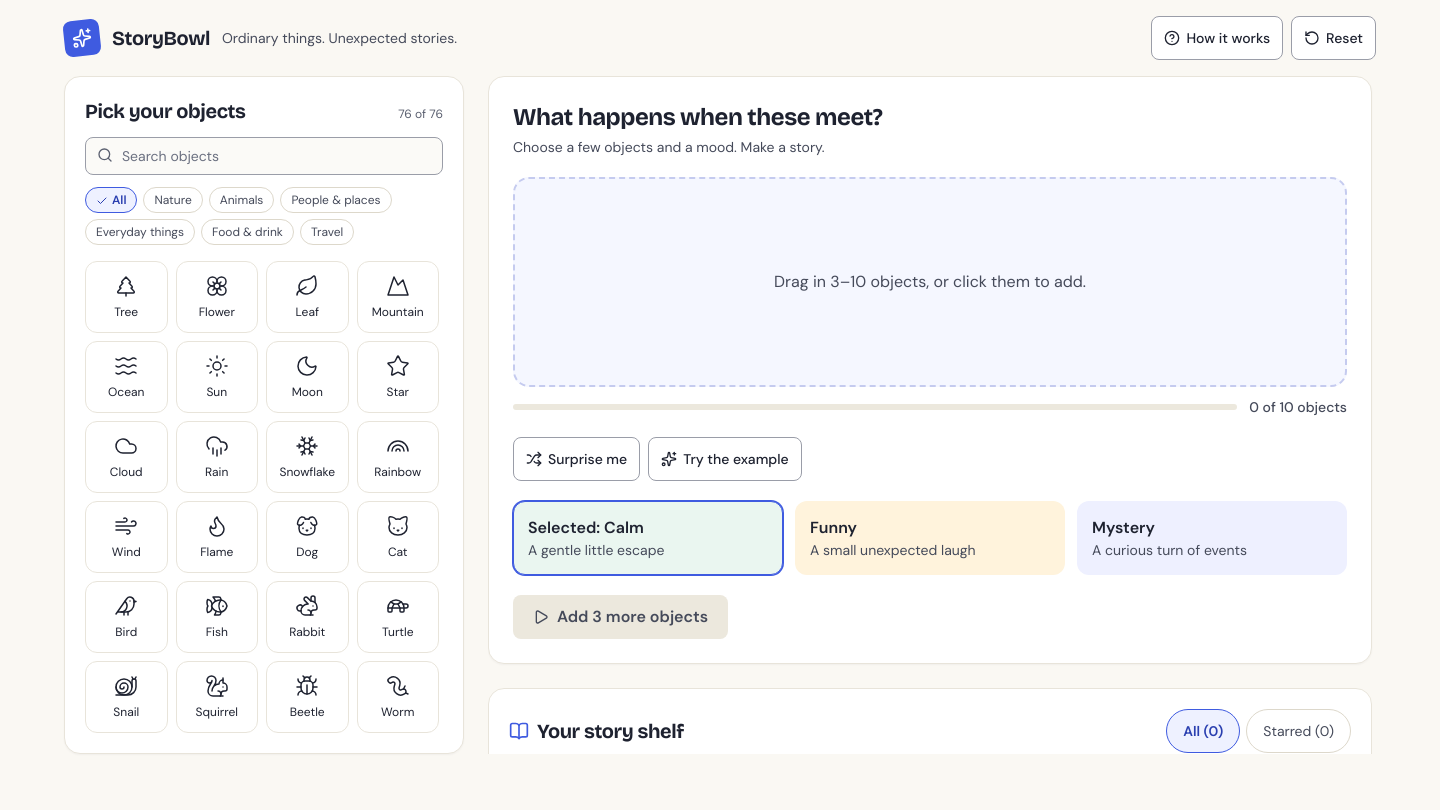
Test case: generation and narration › keeps the result readable when narration is blocked and retries Play without generation
Click the button "Try the example" at (725, 459), box [648,437,802,481]
(page scrolled)
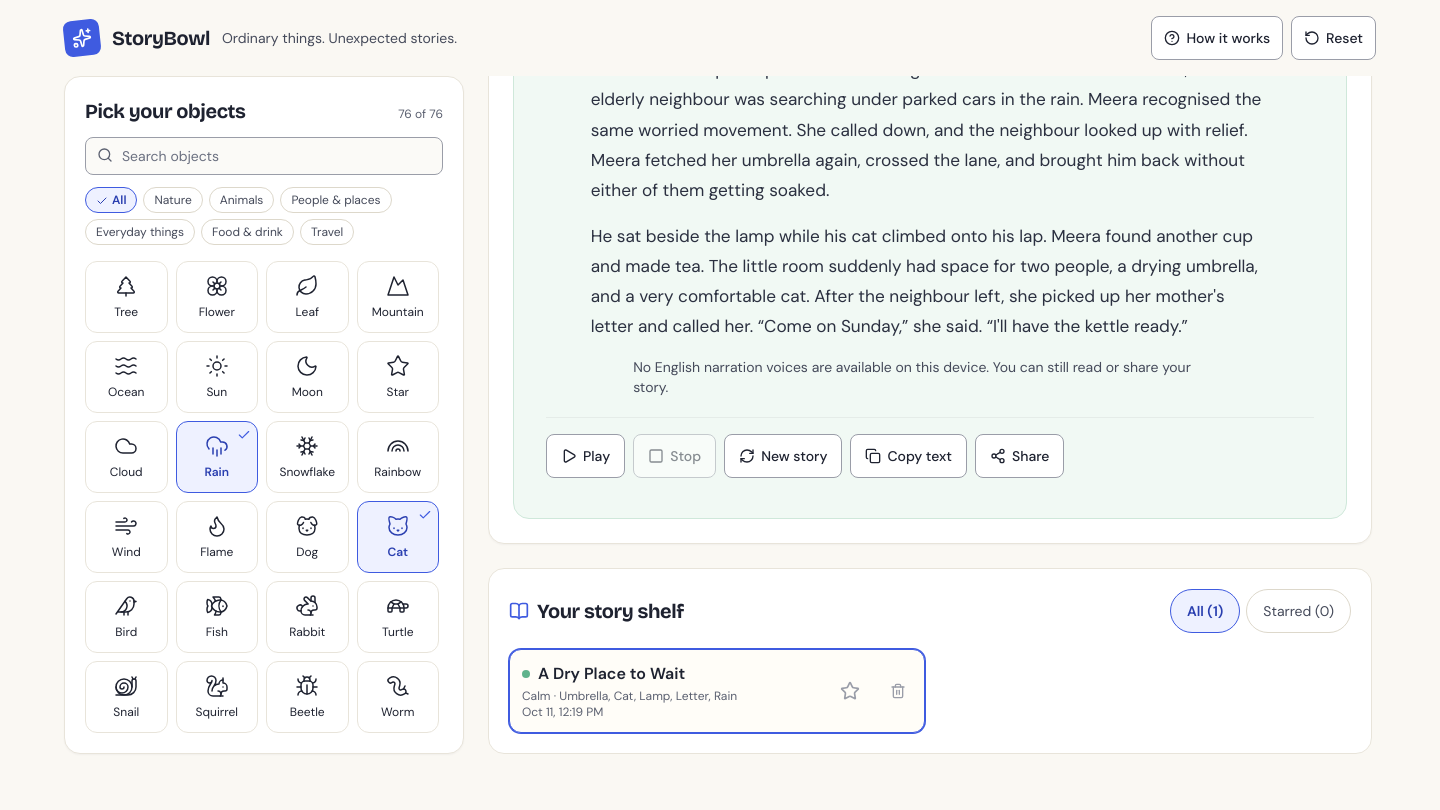
Now the text "No English narration voices are available" is shown, box [633,358,1191,396]
Click the button "Play" at (586, 456), box [546,434,625,478]
(page scrolled)
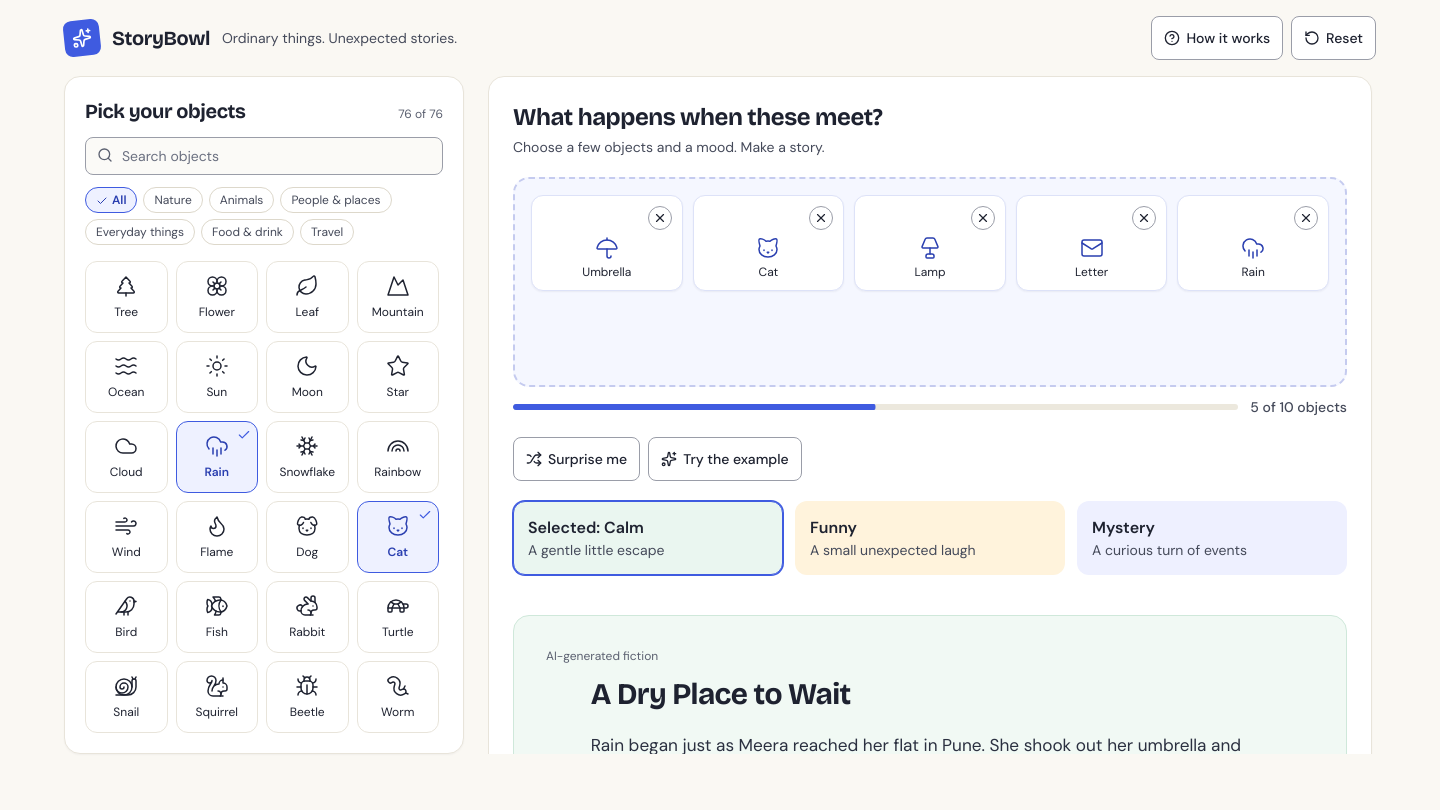
Now the text "No English narration voices are available" is gone
Click the button named "Remove cat" at (821, 218), box [799,196,843,240]
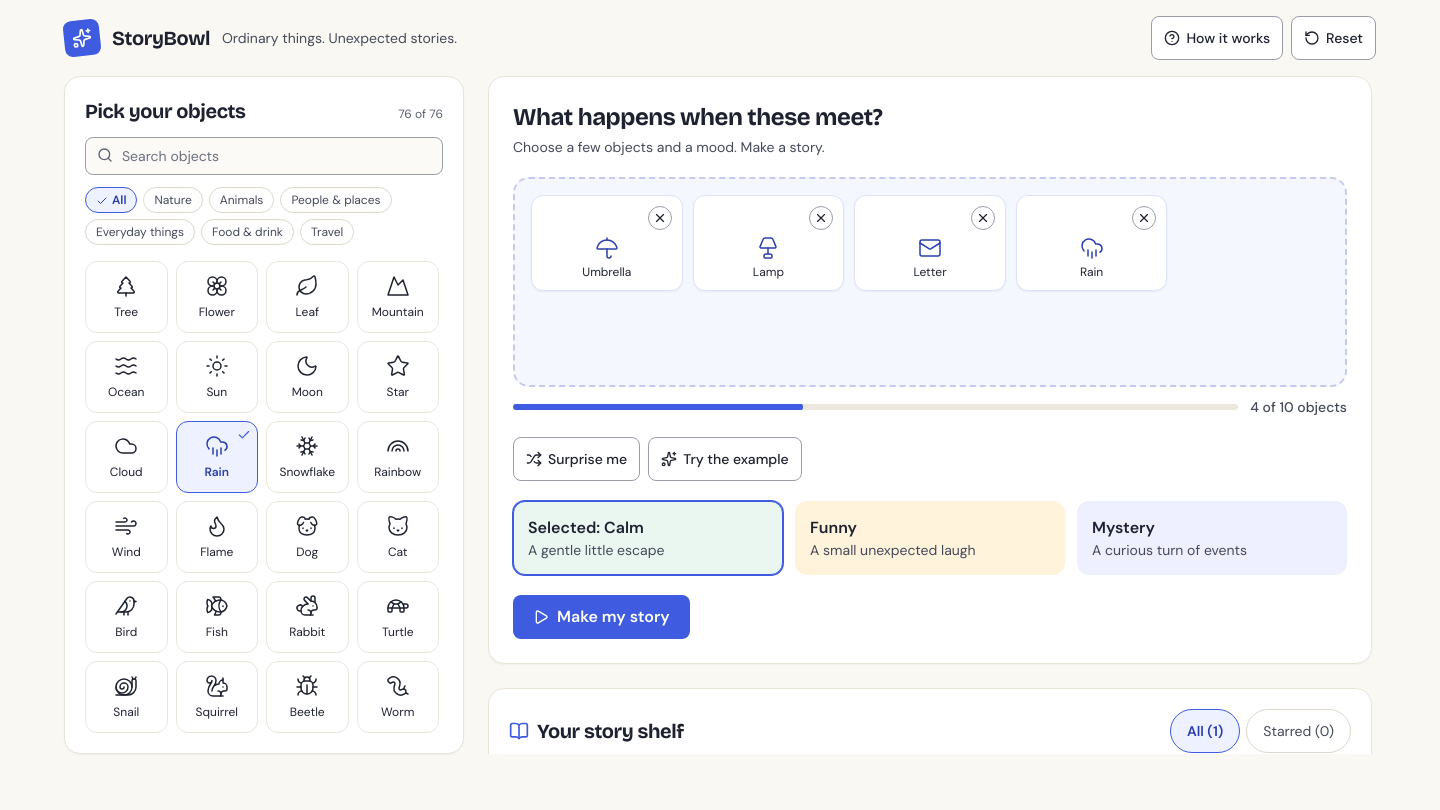
Now the list item with test id "slot-cat" is gone
Now the button "Make my story" is enabled, box [513,595,690,639]
